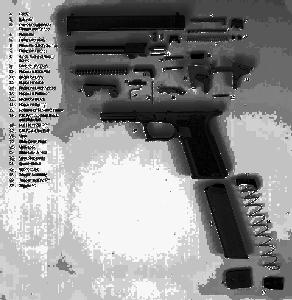handgun: (93, 101, 226, 183)
